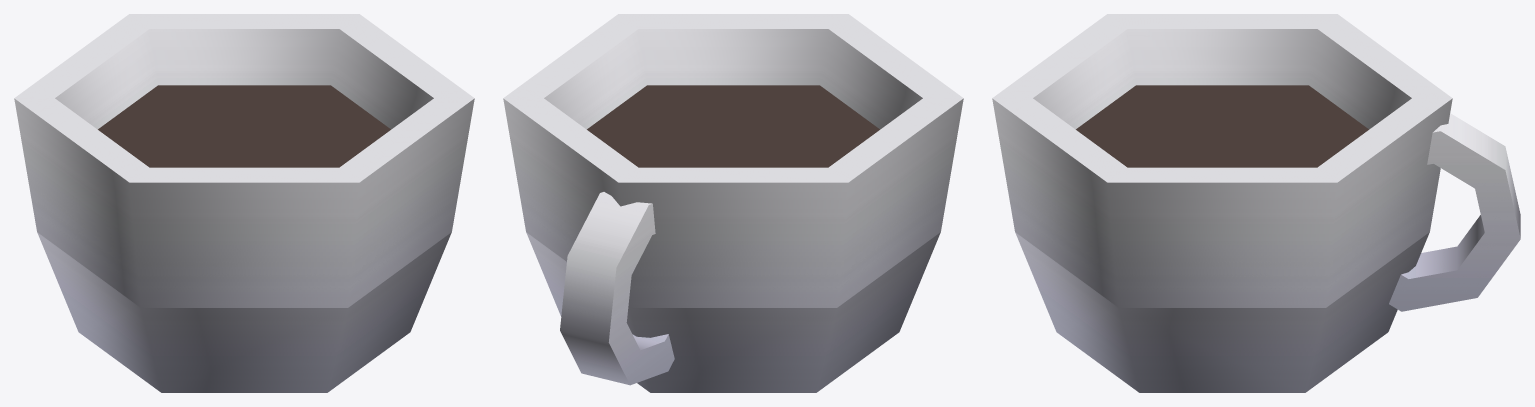
File: latte.glb
The picture shows the model from 3 angles, left to right: view 1: azimuth 30°, elevation 25°; view 2: azimuth 150°, elevation 25°; view 3: azimuth 270°, elevation 25°; orthographic projection.
Parts seen in each view (by area): view 1: dish; view 2: dish; view 3: dish.
Part boxes in pixels (box(x1,y1,x2,y2)): dish: box(14, 14, 474, 392); dish: box(503, 14, 963, 392); dish: box(992, 14, 1520, 392).
Bounding box in the file's own units: 0.0573 × 0.0371 × 0.076.
1 material, 1 textured.
